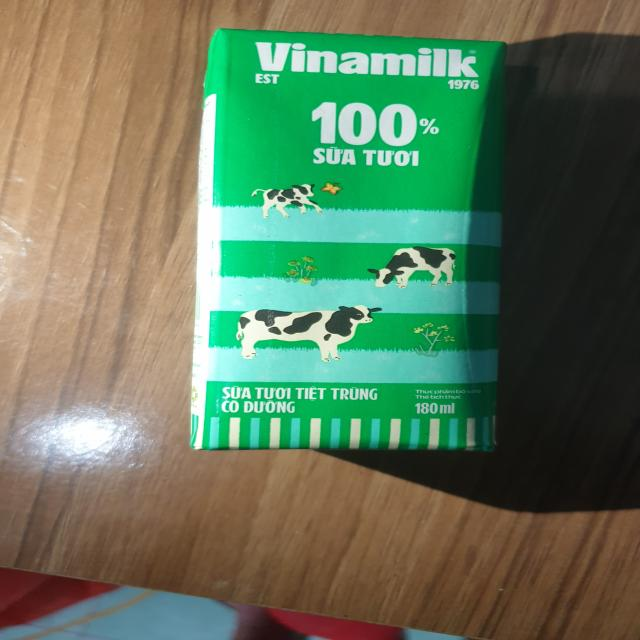Vina: (182, 28, 512, 457)
